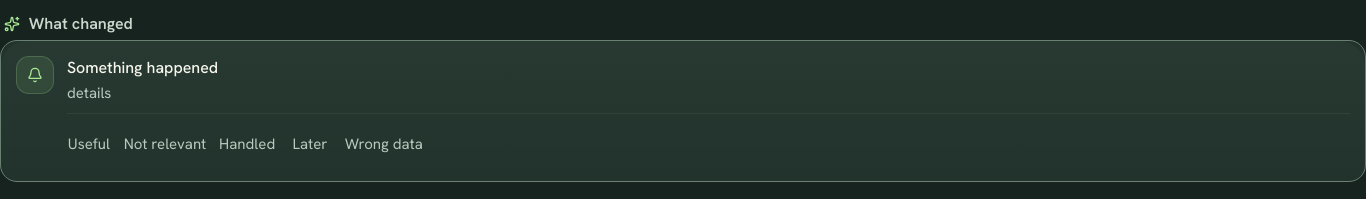
Scenario: ReadinessFeed › renders the feedback row and collapses it after a response
The image size is (1366, 199).
Click the button "Handled".
click(247, 145)  # box [219,123,275,167]
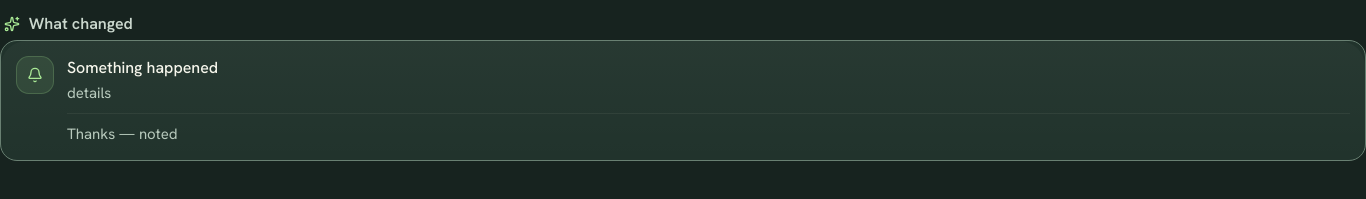
Result: the text "Thanks — noted" is shown at [67,113,1350,145]
Result: the button "Not relevant" is gone
